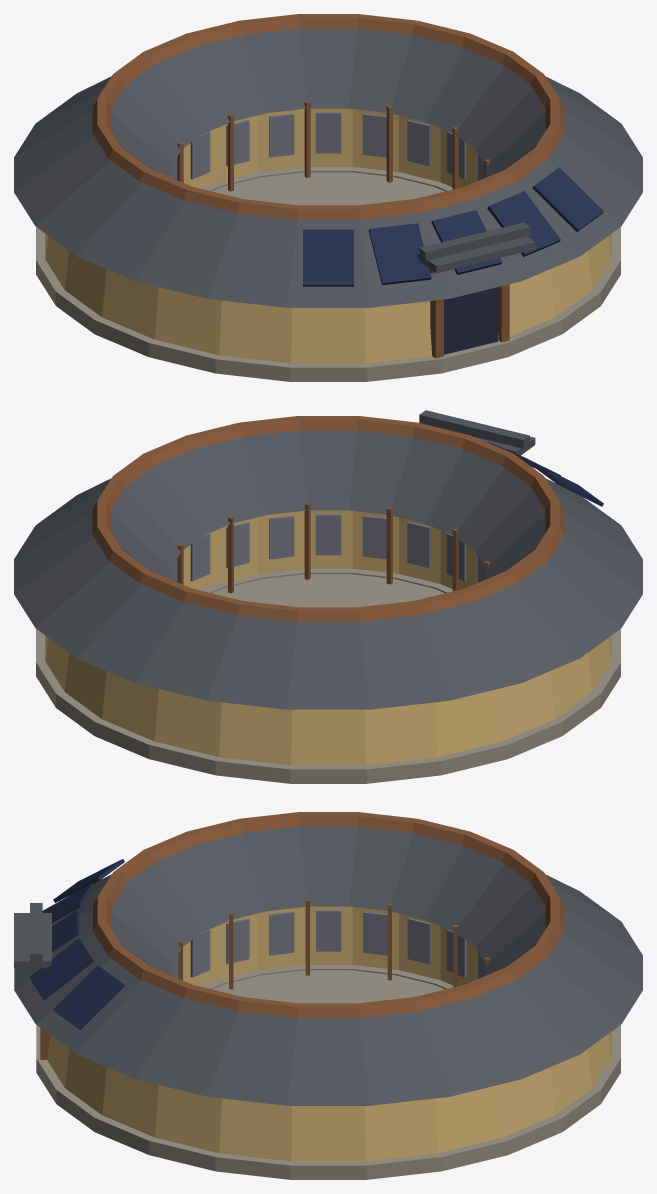
Rendered from house-2x2-1f-tulou-a-solar.glb.
3 renders of one model, top to bottom at view 1: azimuth 30°, elevation 25°; view 2: azimuth 150°, elevation 25°; view 3: azimuth 270°, elevation 25°, orthographic.
Parts seen in each view (by area): view 1: house-2x2-1f-tulou-a-solar; view 2: house-2x2-1f-tulou-a-solar; view 3: house-2x2-1f-tulou-a-solar.
Boxes of the visible parts, <box> form: house-2x2-1f-tulou-a-solar: <box>14,14,642,381</box>; house-2x2-1f-tulou-a-solar: <box>14,410,642,783</box>; house-2x2-1f-tulou-a-solar: <box>14,812,642,1179</box>.
Bounding box in the file's own units: 1.98 × 0.51 × 1.98.
1 material, 1 textured.
